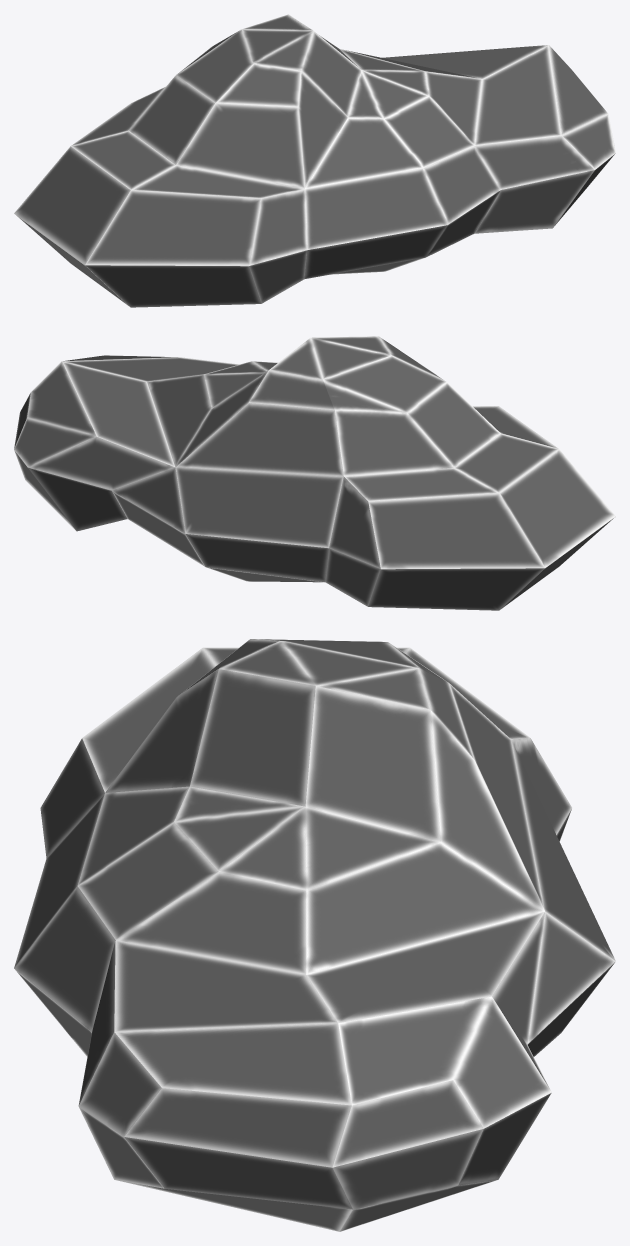
File: cloud.fbx
The picture shows the model from 3 angles, top to bottom: view 1: azimuth 30°, elevation 25°; view 2: azimuth 150°, elevation 25°; view 3: azimuth 270°, elevation 25°; orthographic projection. The views are drawn at different scales.
Visible parts, largest first — view 1: pSphere1; view 2: pSphere1; view 3: pSphere1.
Part boxes in pixels (<box>): pSphere1: <box>14,14,615,307</box>; pSphere1: <box>14,336,615,610</box>; pSphere1: <box>14,639,615,1231</box>.
Size of the model in its own units: 6.59 by 2.61 by 3.61.
